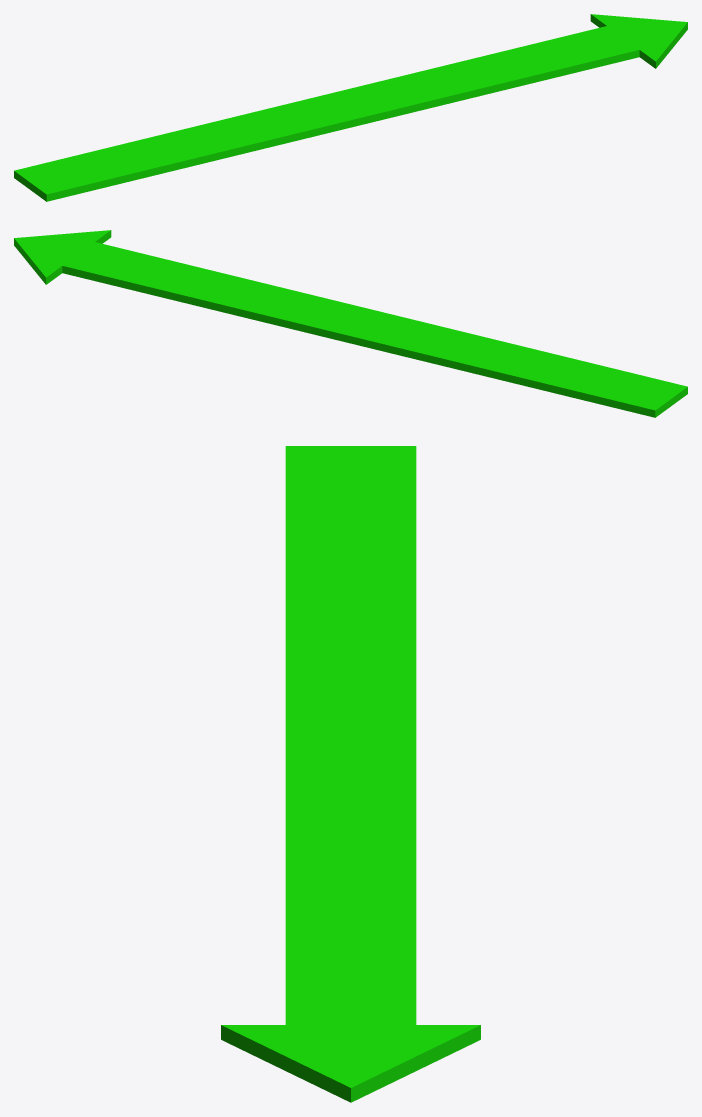
The model's file is Green Straight.fbx.
3 views of the same model, one above another, from view 1: azimuth 30°, elevation 25°; view 2: azimuth 150°, elevation 25°; view 3: azimuth 270°, elevation 25° (orthographic). The views are drawn at different scales.
Parts seen in each view (by area): view 1: Plane; view 2: Plane; view 3: Plane.
Boxes of the visible parts, x1,y1,x2,y2 form: Plane: (14, 14, 687, 201); Plane: (14, 230, 687, 417); Plane: (221, 446, 480, 1102).
Size of the model in its own units: 2331 by 25 by 399.
